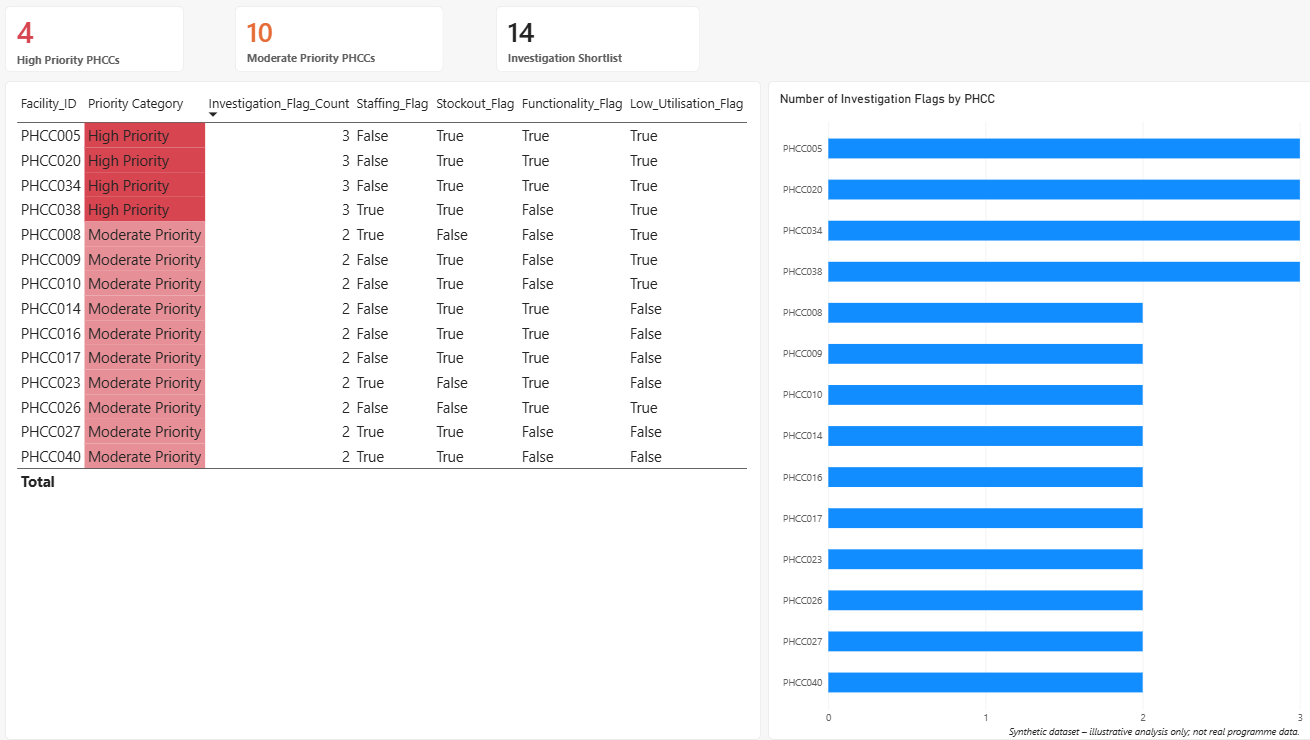

What the dashboard file says about the page in this screenshot:
{"tool":"powerbi","page":{"name":"Management Prioritisation","canvas":[1920,1080],"ordinal":2},"visuals":[{"type":"cardVisual","title":"High Priority","fields":{"Data":["management_summary.High Priority PHCCs"]},"box":[10.2,8.8,261.2,96.3],"z":0},{"type":"cardVisual","fields":{"Data":["management_summary.Moderate Priority PHCCs"]},"box":[345.8,8.8,304.9,96.3],"z":1000},{"type":"cardVisual","fields":{"Data":["management_summary.PHCCs Requiring Investigation"]},"box":[726.6,8.8,297.6,96.3],"z":2000},{"type":"tableEx","fields":{"Values":["management_summary.Facility_ID","management_summary.Priority Category","management_summary.Investigation_Flag_Count","management_summary.Staffing_Flag","management_summary.Stockout_Flag","management_summary.Functionality_Flag","management_summary.Low_Utilisation_Flag"]},"box":[10.2,118.2,1103,961.5],"z":3000},{"type":"barChart","title":"Number of Investigation Flags by PHCC","fields":{"Category":["management_summary.Facility_ID"],"Y":["Sum(management_summary.Investigation_Flag_Count)"]},"box":[1123,118,797,961],"z":4000},{"type":"textbox","box":[1475,1057.8,445,21.9],"z":4001}]}

Visuals, with their boxes in screenshot pixels (x1, y1, x2, y2), scaled from the page's 1920x1080 canvas onto the 1310x740 screenshot:
"High Priority" cardVisual: [x1=7, y1=6, x2=185, y2=72]
cardVisual - management_summary.Moderate Priority PHCCs: [x1=236, y1=6, x2=444, y2=72]
cardVisual - management_summary.PHCCs Requiring Investigation: [x1=496, y1=6, x2=699, y2=72]
tableEx - management_summary.Facility_ID x management_summary.Priority Category: [x1=7, y1=81, x2=760, y2=739]
"Number of Investigation Flags by PHCC" barChart: [x1=766, y1=81, x2=1309, y2=739]
textbox: [x1=1006, y1=725, x2=1309, y2=739]
